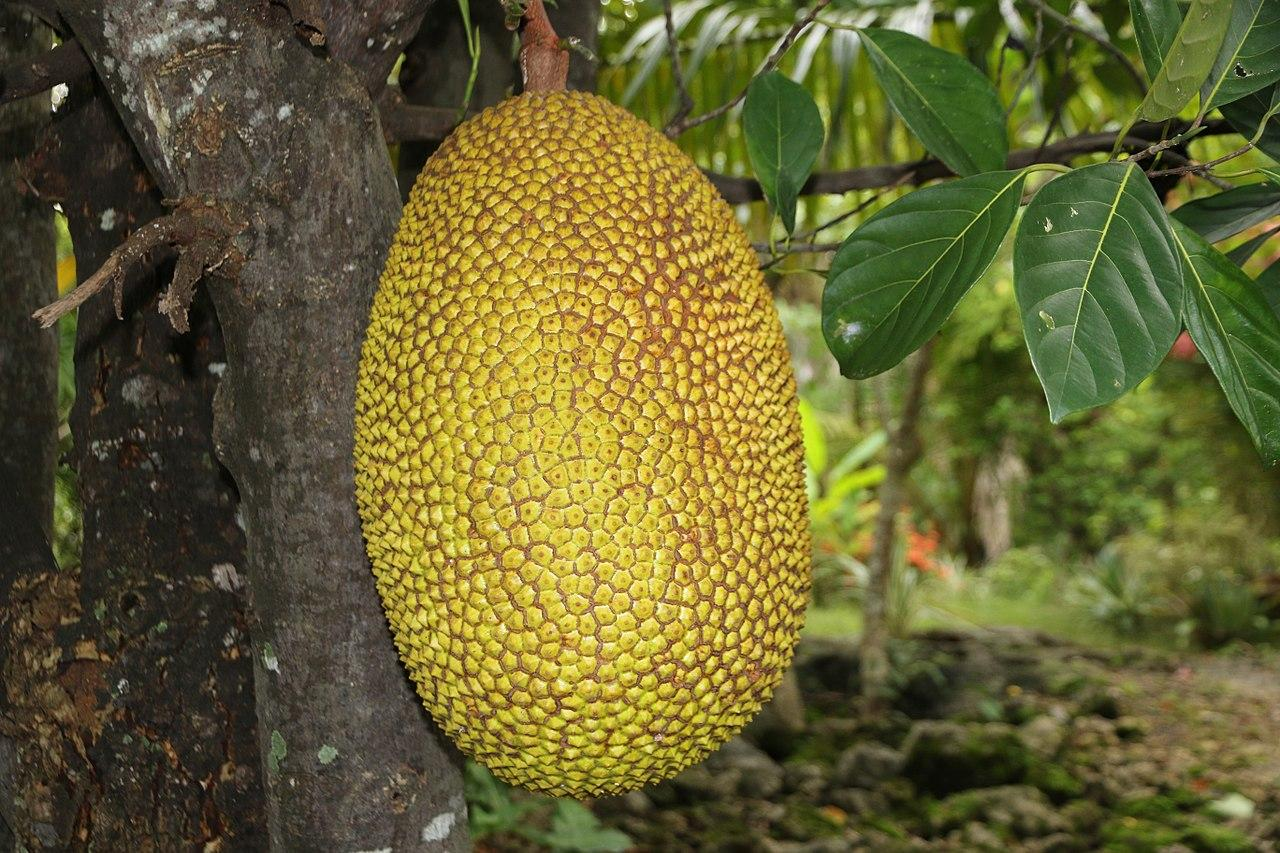mit: (357, 88, 814, 799)
